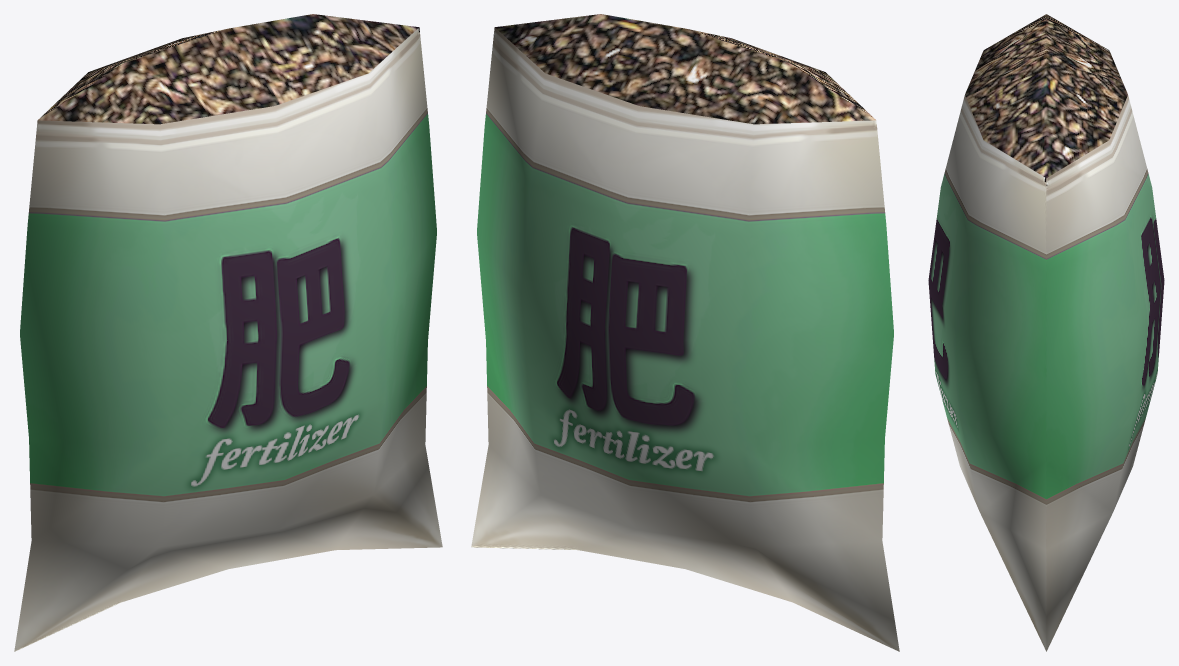
The model's file is fertilizer@fall.FBX.
The picture shows the model from 3 angles, left to right: view 1: azimuth 30°, elevation 25°; view 2: azimuth 150°, elevation 25°; view 3: azimuth 270°, elevation 25°; orthographic projection. The views are drawn at different scales.
Visible parts, largest first — view 1: feiliao; view 2: feiliao; view 3: feiliao.
Boxes of the visible parts, x1,y1,x2,y2 form: feiliao: (14, 14, 442, 651); feiliao: (471, 14, 899, 651); feiliao: (928, 14, 1164, 651).
Bounding box in the file's own units: 200 × 254 × 108.
